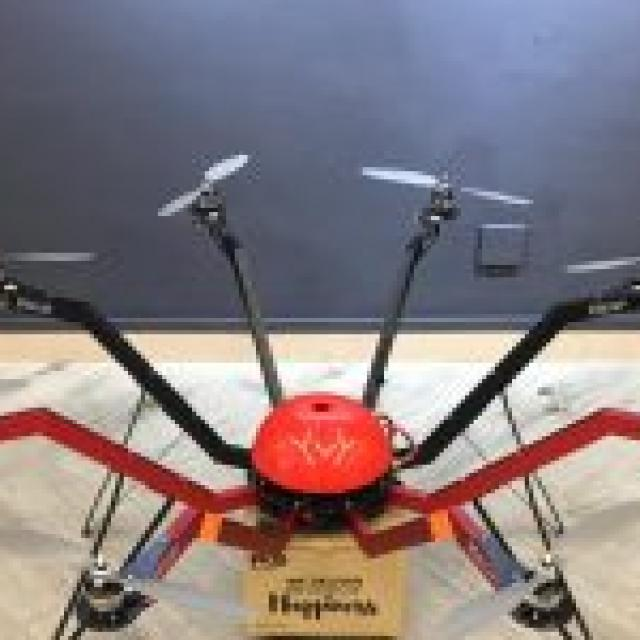drone: (0, 143, 640, 632)
